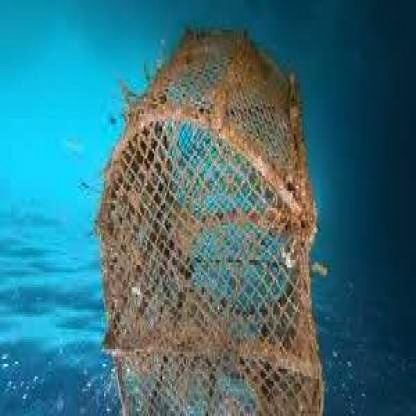net: (97, 32, 327, 416)
